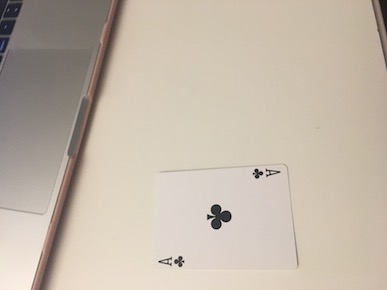AceOfClubs: (148, 163, 303, 272)
